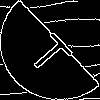T: (25, 25, 82, 78)
